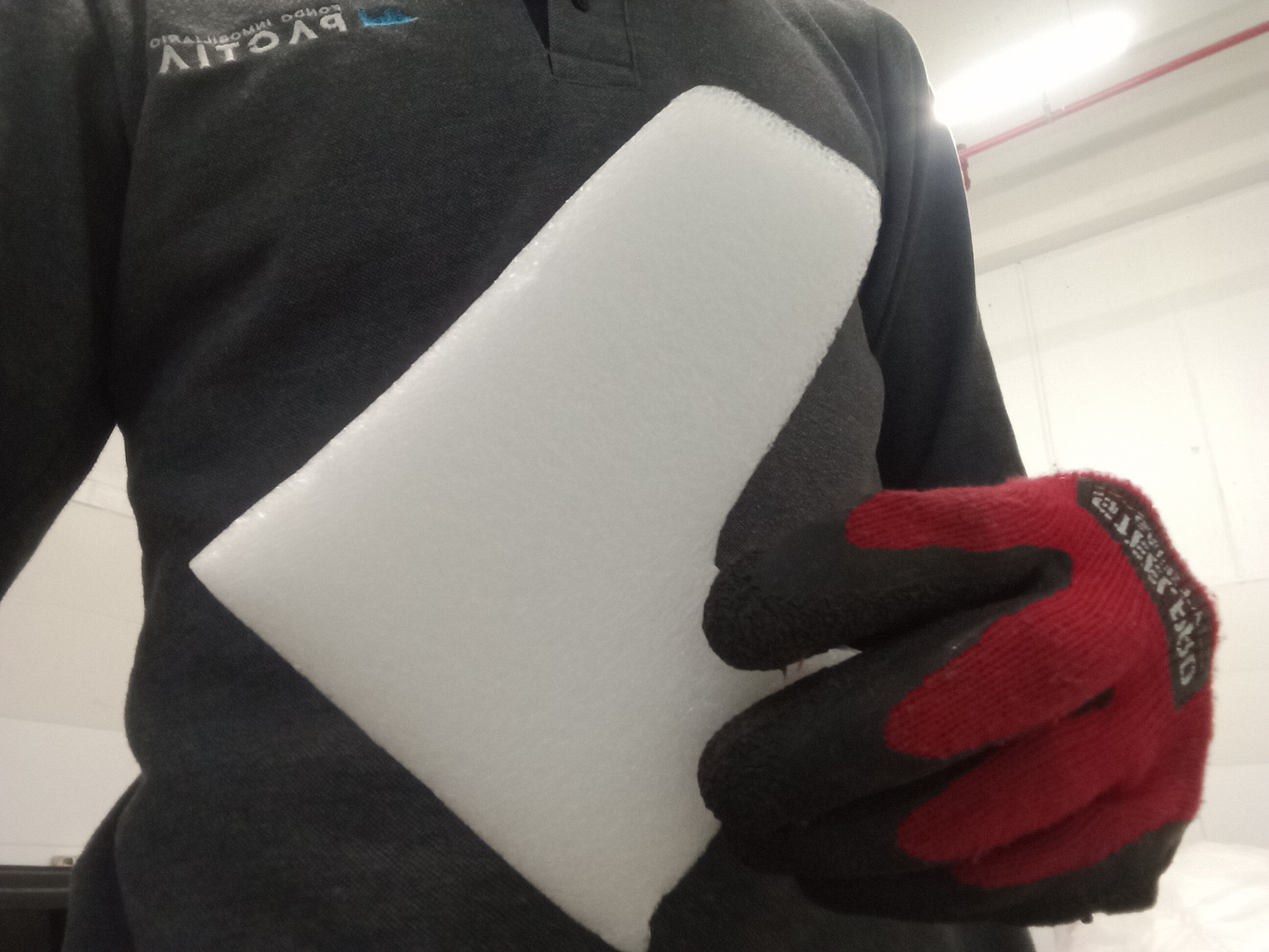Ordinario: (192, 85, 889, 952)
